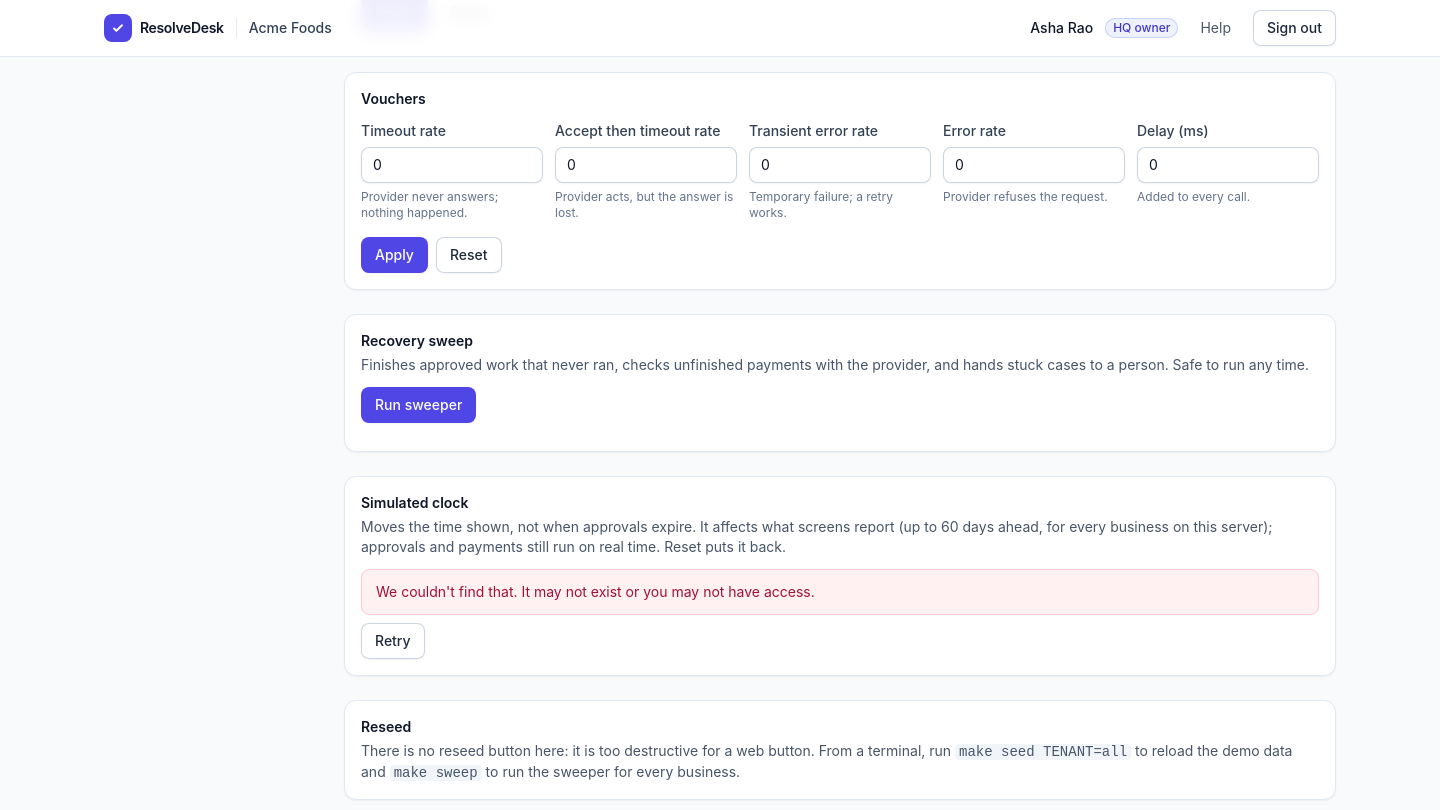
dev panel › runs the sweeper and shows the result
(page scrolled)
Click the button "Run sweeper" at (419, 405), box [361,387,476,423]
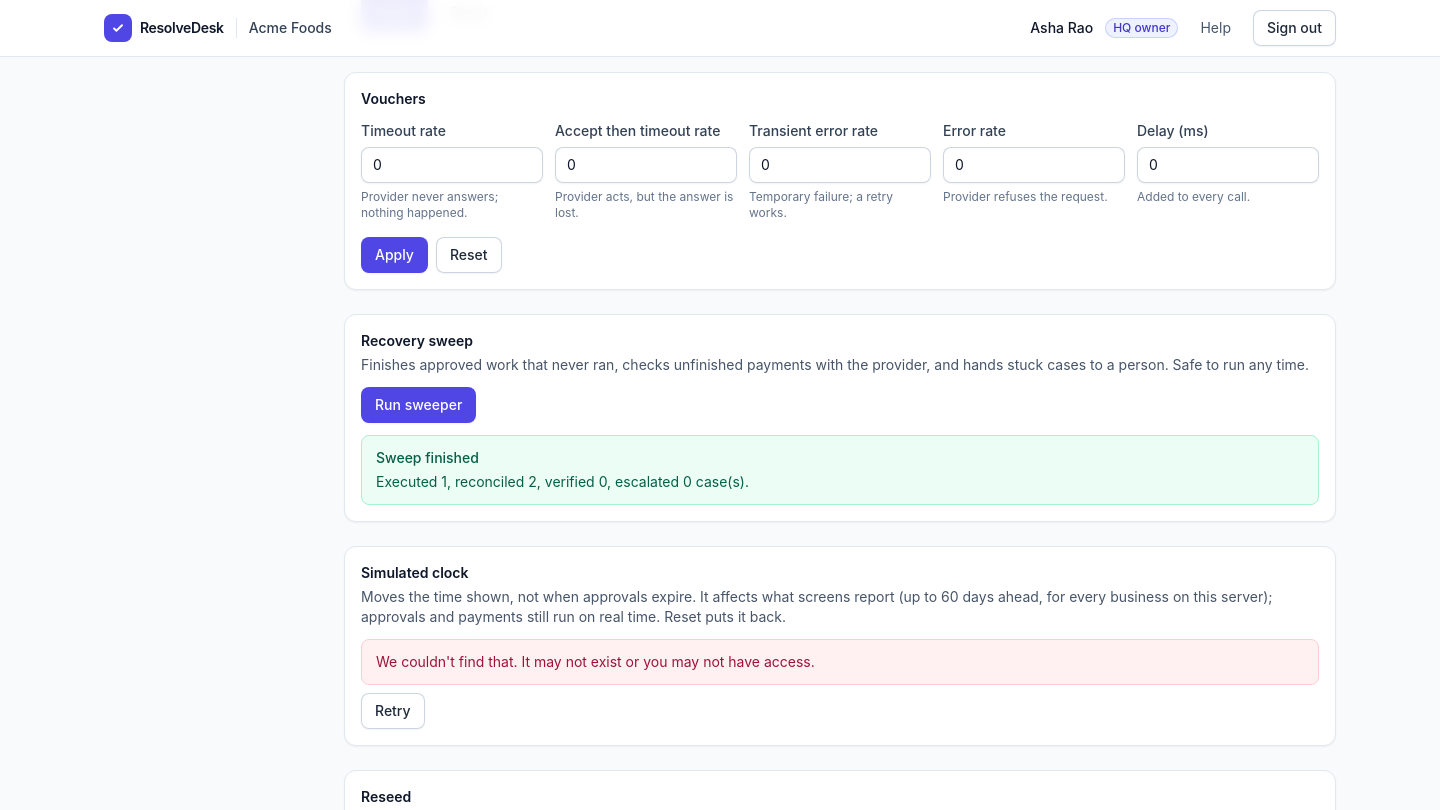
Expected: the text with test id "sweep-result" reads "Executed 1, reconciled 2, verified 0, escalated 0 case(s).", [376,473,749,490]
